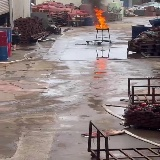fire: (93, 7, 109, 29)
